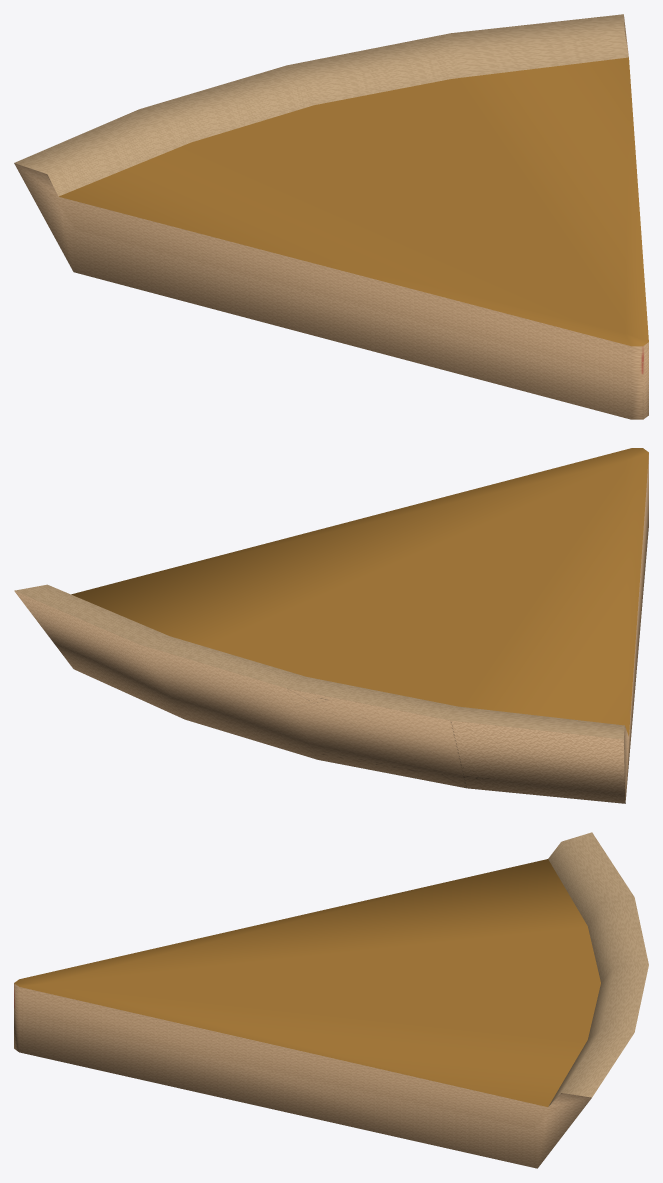
Rendered from WorldItem_PizzaDoughSlice.fbx.
The picture shows the model from 3 angles, top to bottom: view 1: azimuth 30°, elevation 25°; view 2: azimuth 150°, elevation 25°; view 3: azimuth 270°, elevation 25°; orthographic projection. The views are drawn at different scales.
Parts seen in each view (by area): view 1: Pie_Lemonmeringue001; view 2: Pie_Lemonmeringue001; view 3: Pie_Lemonmeringue001.
Boxes of the visible parts, x1,y1,x2,y2 form: Pie_Lemonmeringue001: (14,14,648,419); Pie_Lemonmeringue001: (14,448,648,803); Pie_Lemonmeringue001: (14,832,648,1168).
Size of the model in its own units: 22.09 by 3.25 by 22.34.
